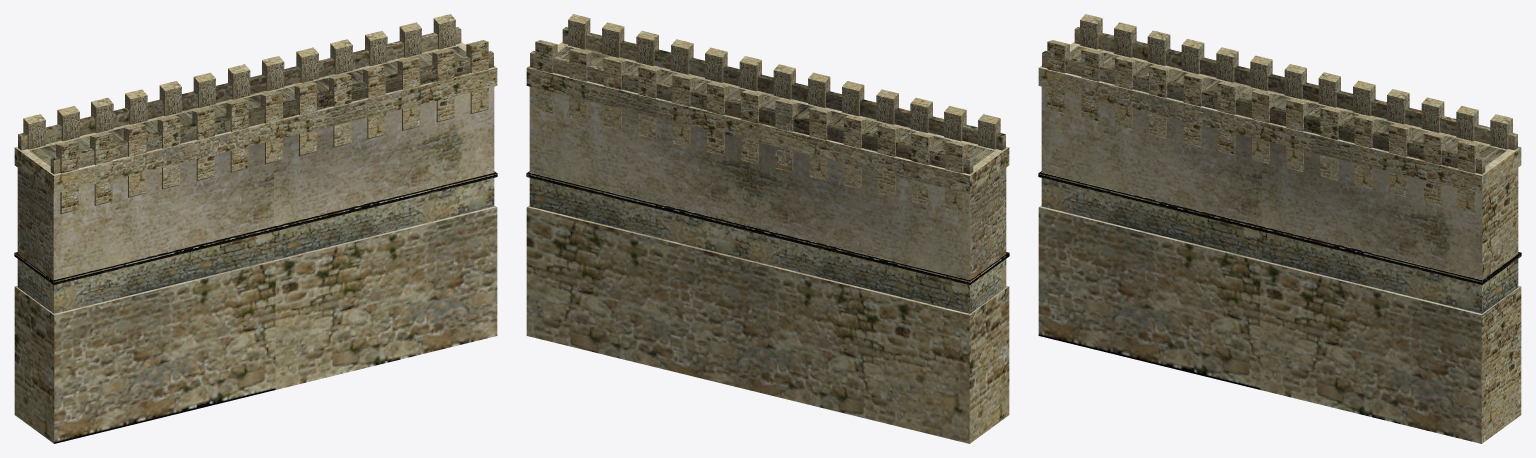
Rendered from wall.glb.
The picture shows the model from 3 angles, left to right: view 1: azimuth 30°, elevation 25°; view 2: azimuth 150°, elevation 25°; view 3: azimuth 330°, elevation 25°; orthographic projection.
Visible parts, largest first — view 1: wall_part0; view 2: wall_part0; view 3: wall_part0.
Part boxes in pixels (<box>): wall_part0: <box>14,14,497,443</box>; wall_part0: <box>526,14,1009,443</box>; wall_part0: <box>1038,14,1521,443</box>.
Bounding box in the file's own units: 2 × 1.27 × 0.3092.
1 material, 1 textured.
